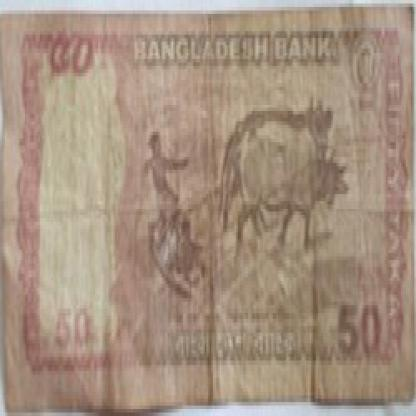Fifty taka: (331, 294, 388, 367), (48, 31, 105, 90)
